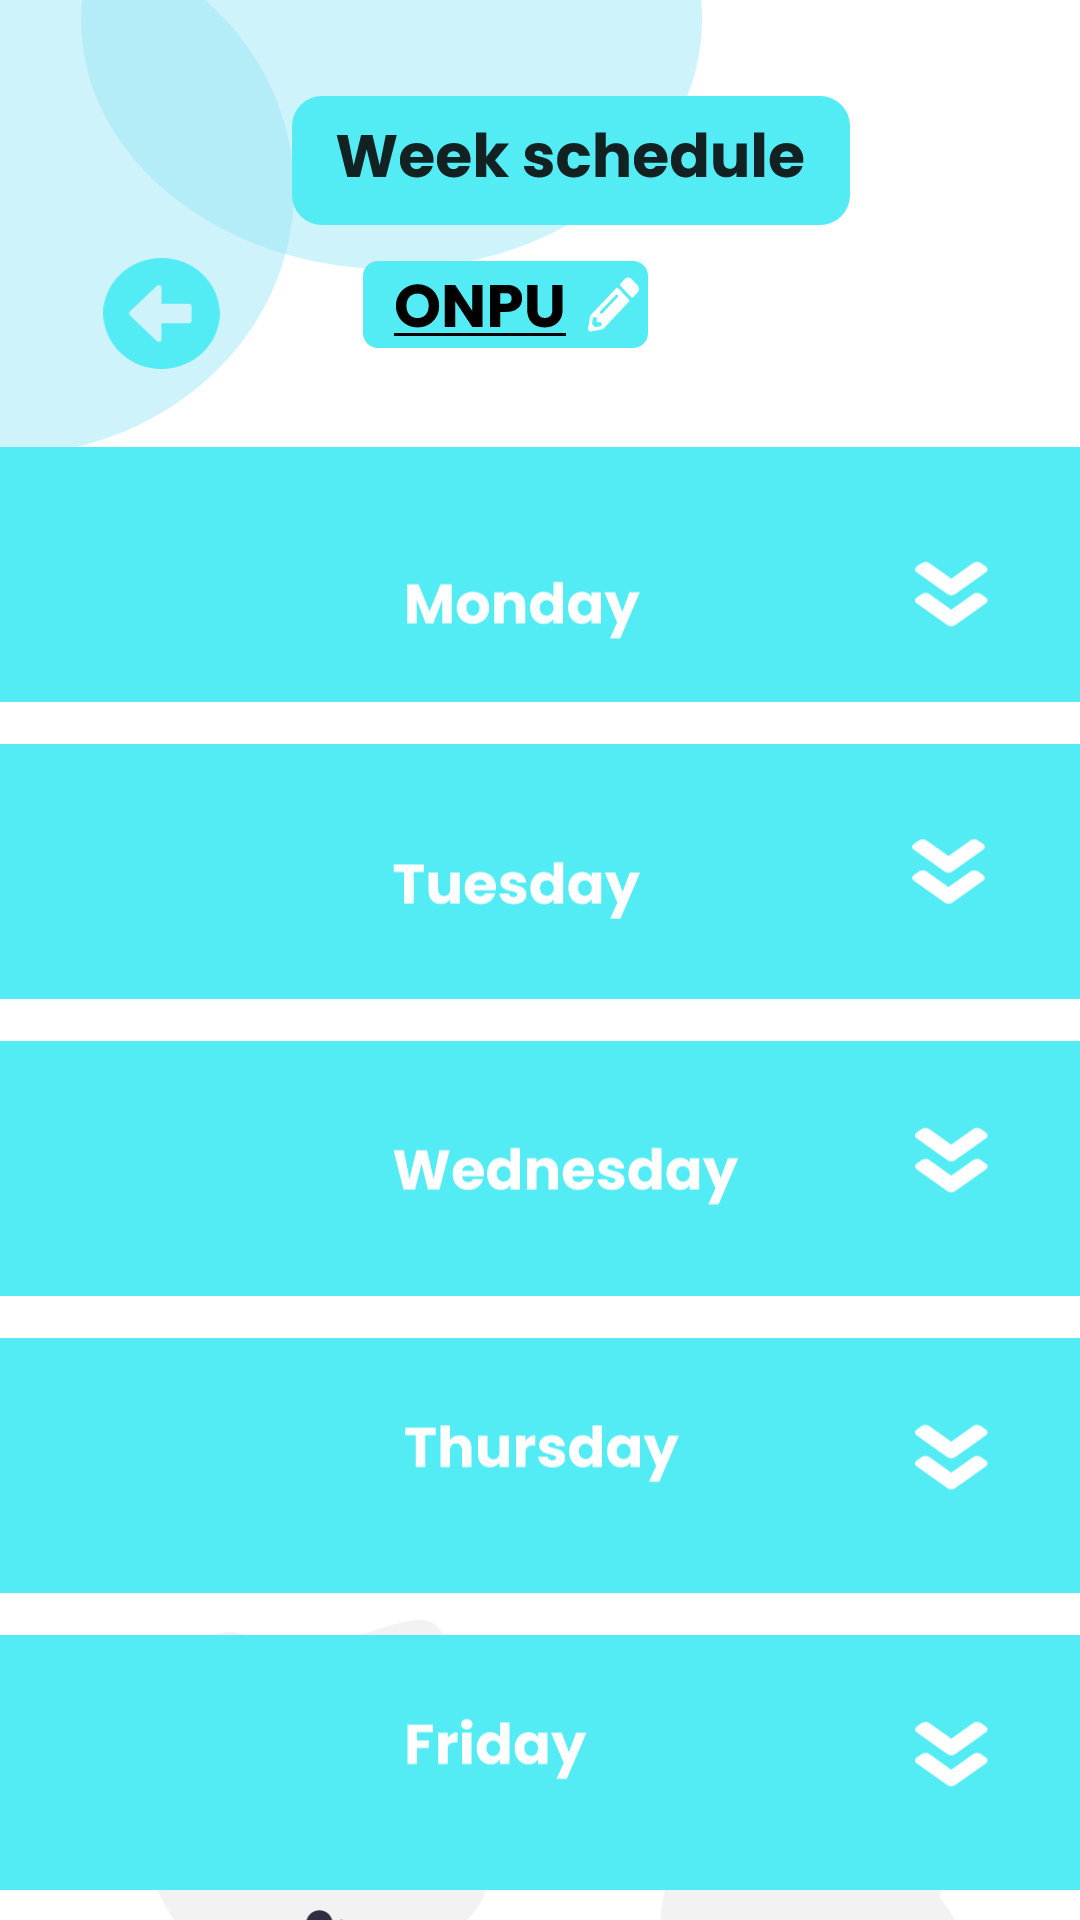

Screen size 1080x1920. Icon name, then its box in pixels as region(x1, y1, x2, y2):
back: region(103, 258, 220, 369)
